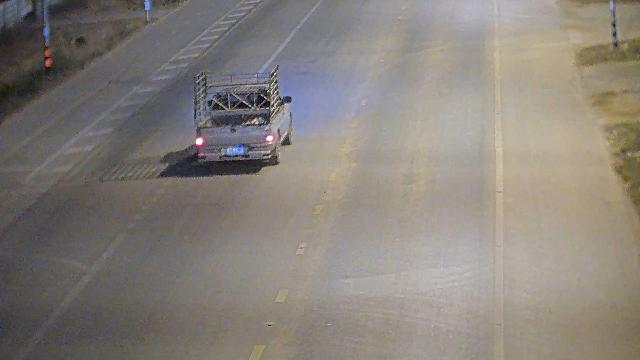pickup-truck: (191, 64, 293, 166)
